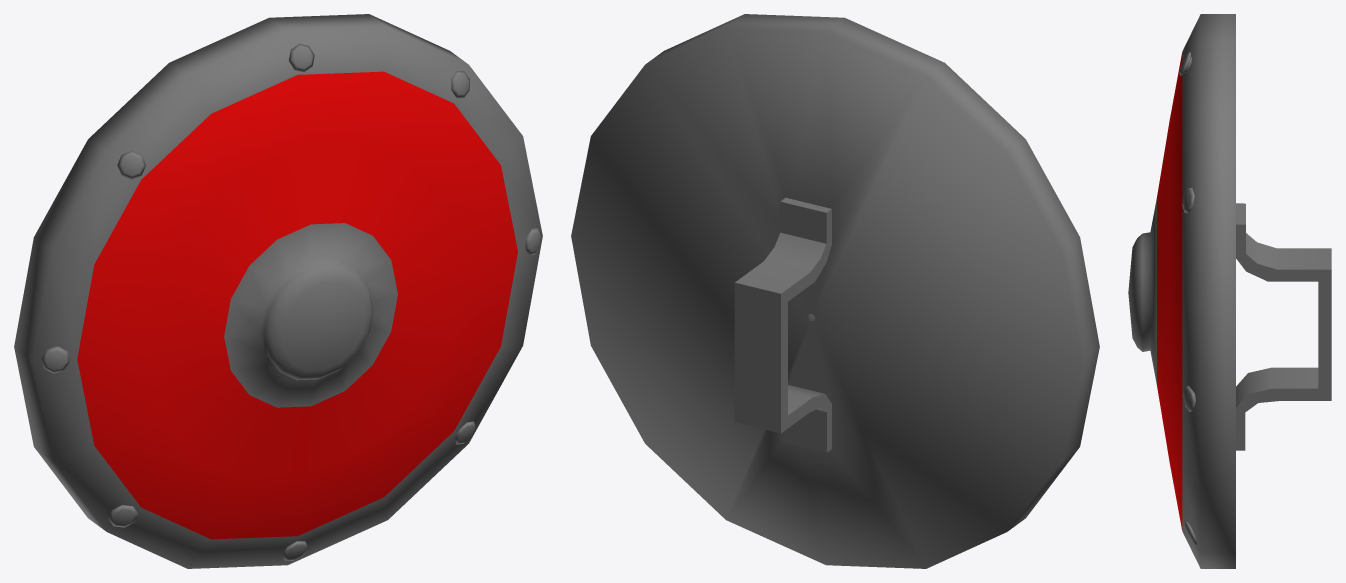
File: red round shield.FBX
The picture shows the model from 3 angles, left to right: view 1: azimuth 30°, elevation 25°; view 2: azimuth 150°, elevation 25°; view 3: azimuth 270°, elevation 25°; orthographic projection. The views are drawn at different scales.
Visible parts, largest first — view 1: C-Ext001; view 2: C-Ext001; view 3: C-Ext001.
Boxes of the visible parts, x1,y1,x2,y2 form: C-Ext001: (14,14,542,568); C-Ext001: (571,14,1099,568); C-Ext001: (1128,14,1331,568).
Bounding box in the file's own units: 85.82 × 85.82 × 31.5.
